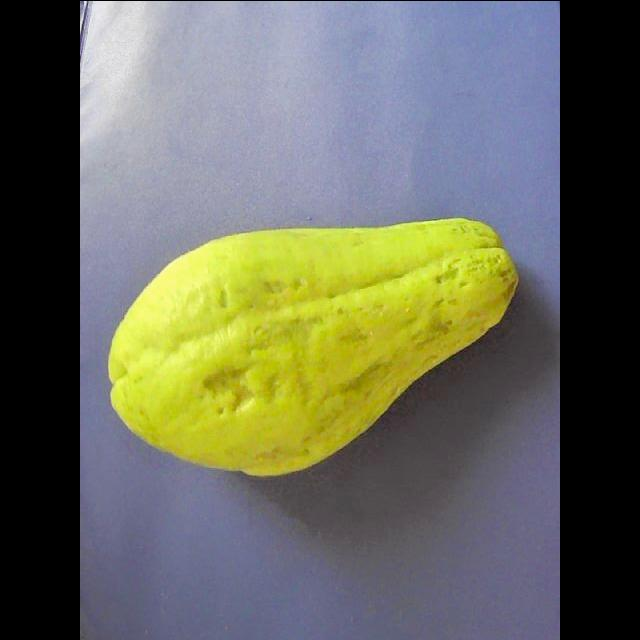chayote: (108, 218, 517, 475)
